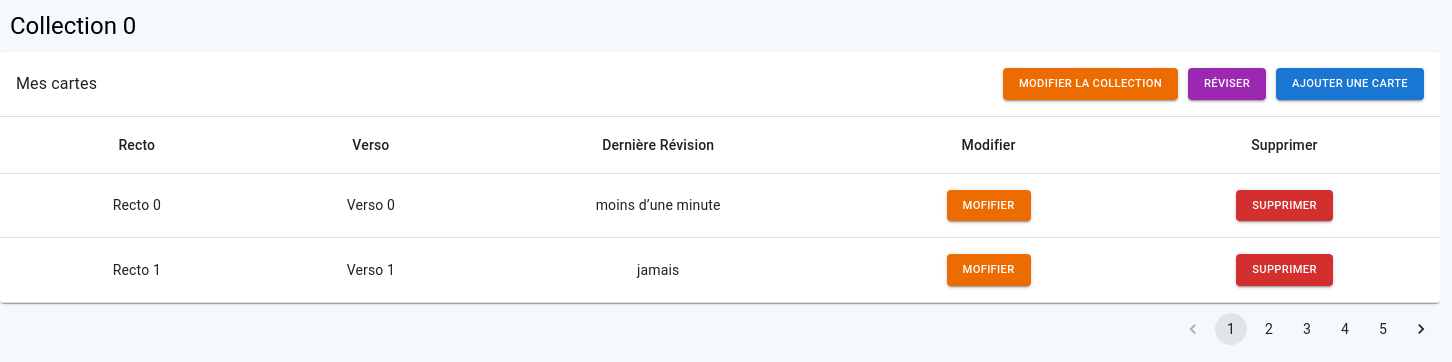
Test: CollectionDetailContent › Tests the cards are fetched correctly
The image size is (1452, 362).
Expected: the row with test id "card-0" is shown, [0,173,1440,238]
Expected: the row with test id "card-1" is shown, [0,238,1440,302]
Click the button "2".
click(1269, 329)  # box [1253,313,1285,345]
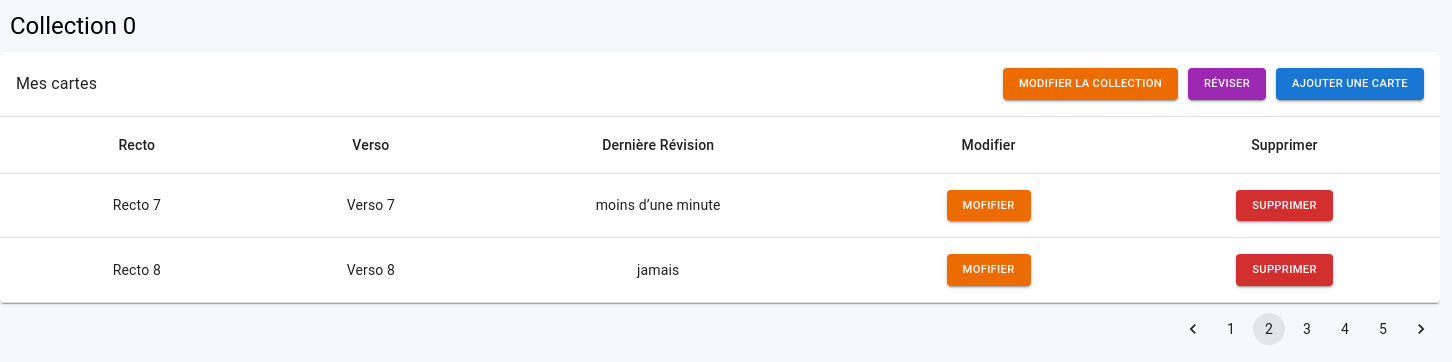
Result: the row with test id "card-7" is shown at [0,173,1440,238]
Result: the row with test id "card-8" is shown at [0,238,1440,302]
